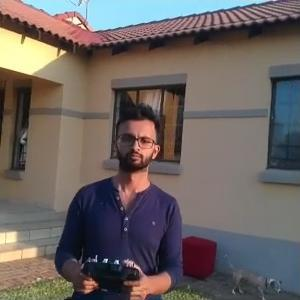follow: (48, 96, 186, 299)
null: (220, 253, 286, 298)
